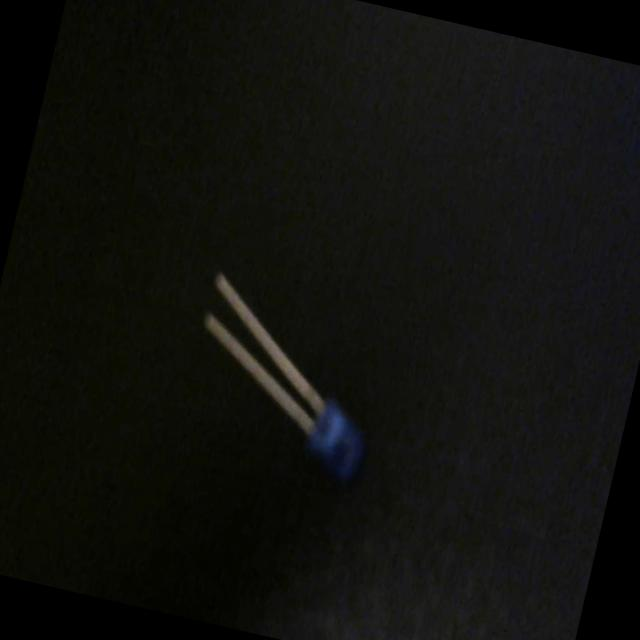blue_led: (172, 266, 396, 486)
